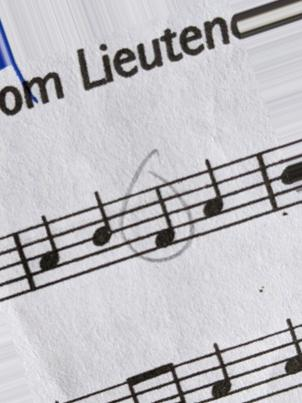note: (192, 154, 230, 239), (29, 213, 65, 287), (87, 187, 118, 266), (149, 183, 178, 254), (207, 342, 241, 402), (279, 317, 302, 388)
